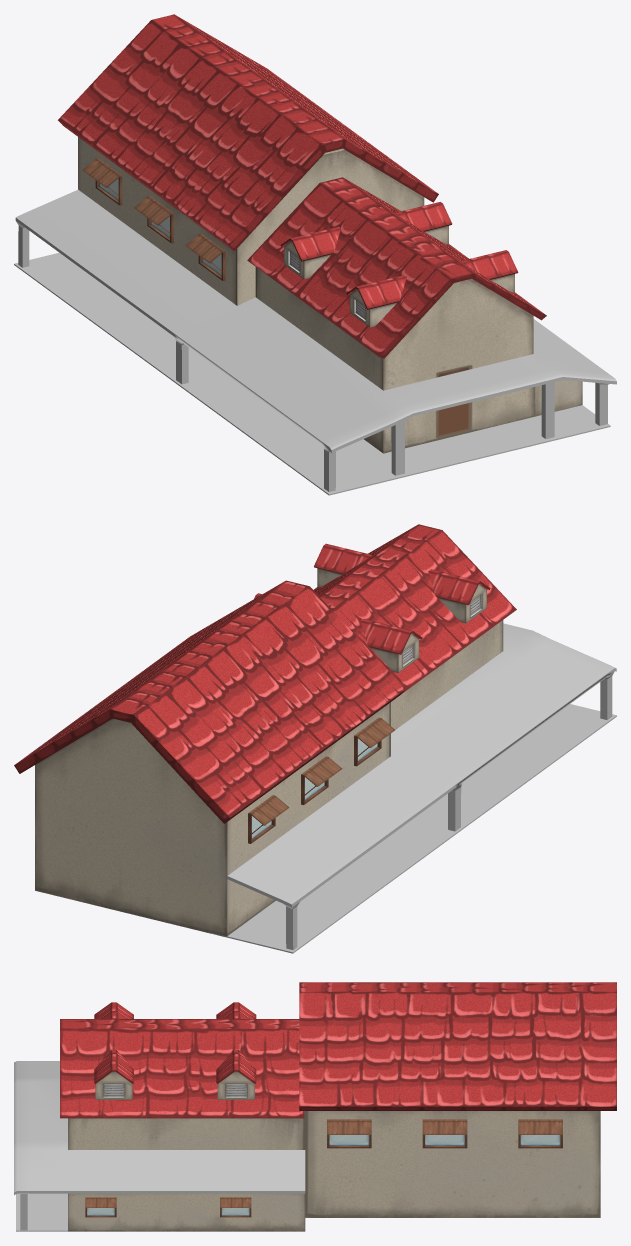
The model's file is FarmHouseNew.fbx.
3 renders of one model, top to bottom at view 1: azimuth 30°, elevation 25°; view 2: azimuth 150°, elevation 25°; view 3: azimuth 270°, elevation 25°, orthographic. The views are drawn at different scales.
Parts seen in each view (by area): view 1: Farmhouse; view 2: Farmhouse; view 3: Farmhouse.
Part boxes in pixels (x1,y1,x2,y2): Farmhouse: (14, 14, 616, 495); Farmhouse: (14, 524, 616, 953); Farmhouse: (14, 982, 616, 1231).
Bounding box in the file's own units: 29.27 × 19.35 × 56.18.
